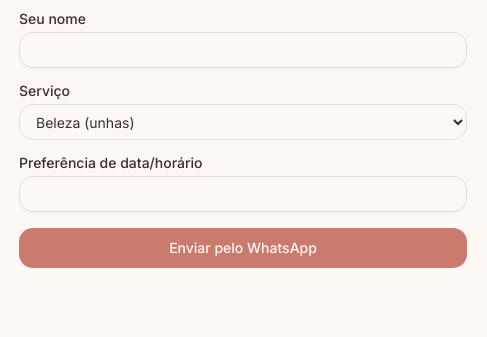
Test case: BookingForm › mostra erro de validação quando o nome é vazio
The image size is (487, 337).
Click the button "Enviar pelo WhatsApp" at (243, 248), box left=19, top=228, right=467, bottom=268
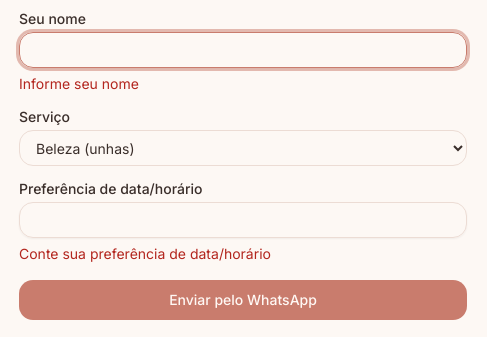
Expected: the text "Informe seu nome" is shown, left=19, top=75, right=139, bottom=92
